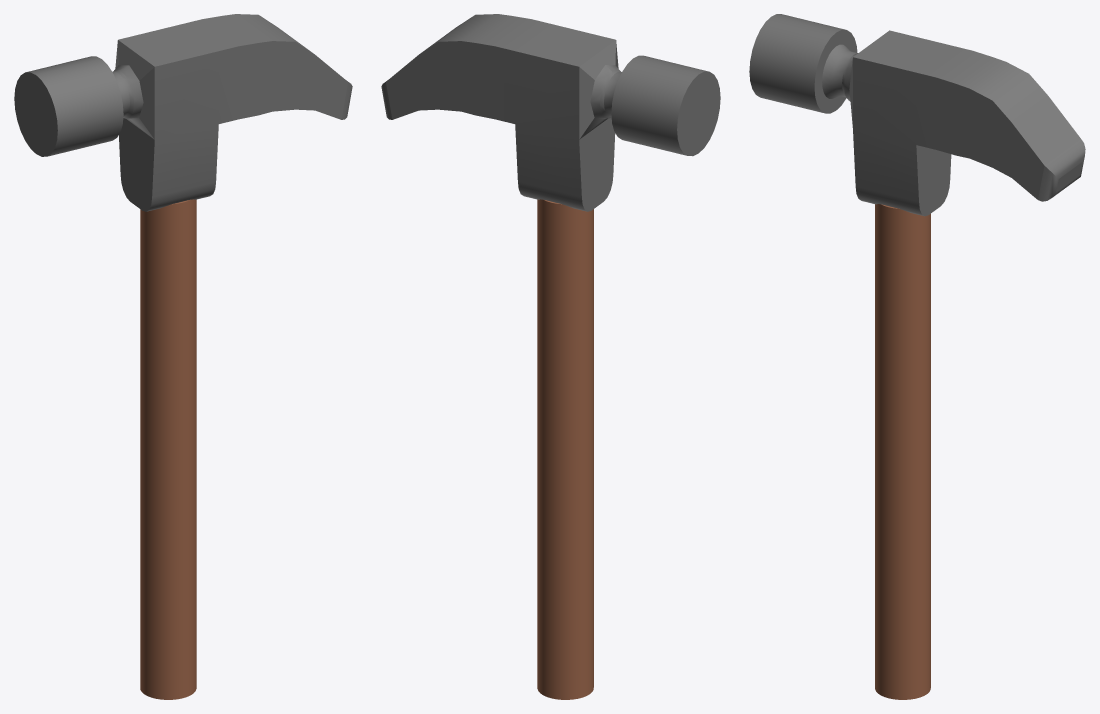
Rendered from Shadow_Hammer.fbx.
The picture shows the model from 3 angles, left to right: view 1: azimuth 30°, elevation 25°; view 2: azimuth 150°, elevation 25°; view 3: azimuth 330°, elevation 25°; orthographic projection.
Visible parts, largest first — view 1: Cylinder; view 2: Cylinder; view 3: Cylinder.
Boxes of the visible parts, x1,y1,x2,y2 form: Cylinder: [14, 14, 352, 699]; Cylinder: [381, 14, 720, 699]; Cylinder: [749, 14, 1085, 699].
Bounding box in the file's own units: 514 × 1049 × 128.
